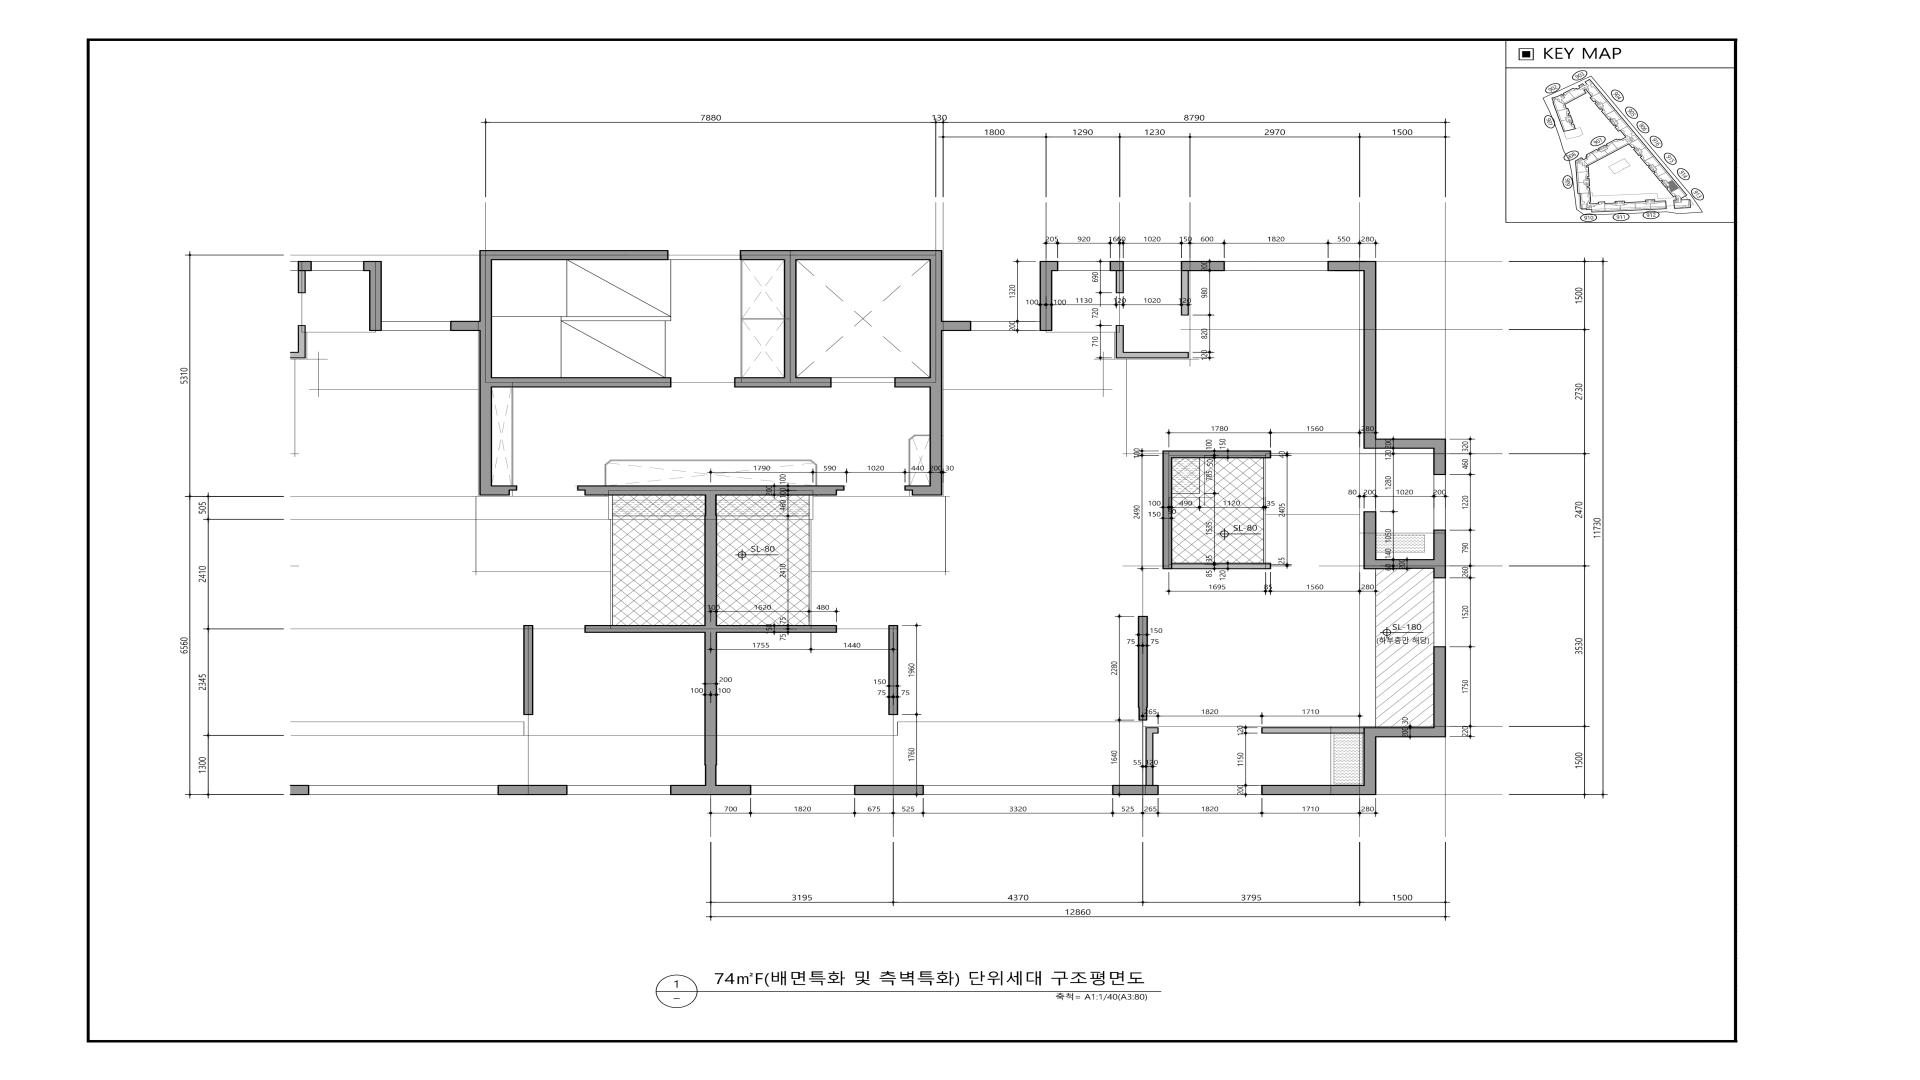wall: (704, 516, 717, 766), (584, 485, 837, 496), (1364, 272, 1377, 448), (479, 377, 671, 388), (740, 249, 930, 260), (492, 251, 669, 260), (783, 260, 796, 377), (479, 388, 492, 485), (930, 388, 943, 485), (1162, 450, 1172, 570), (1433, 646, 1447, 737), (1261, 785, 1364, 795), (735, 377, 832, 388), (1138, 616, 1149, 708), (584, 625, 704, 633), (717, 625, 837, 633), (887, 625, 898, 715), (479, 251, 492, 320), (369, 261, 382, 331), (930, 251, 943, 320), (1039, 261, 1052, 331), (1172, 450, 1271, 459), (670, 785, 752, 795), (524, 625, 533, 715), (1364, 512, 1377, 570), (1364, 737, 1377, 795), (497, 785, 568, 795), (1377, 438, 1447, 448), (1364, 727, 1433, 737), (855, 785, 924, 795), (1261, 727, 1364, 733), (1433, 529, 1447, 579), (1172, 563, 1271, 570), (479, 331, 492, 377), (930, 331, 943, 377), (1377, 559, 1433, 570), (1328, 261, 1377, 272), (894, 377, 943, 388), (1112, 785, 1159, 795), (1180, 261, 1225, 272), (1146, 727, 1154, 785), (450, 320, 492, 331), (930, 320, 972, 331), (1124, 352, 1189, 359), (1180, 272, 1189, 315), (1433, 448, 1447, 475), (479, 485, 510, 496), (911, 485, 943, 496), (1116, 326, 1124, 359), (704, 496, 717, 516), (298, 326, 306, 359), (704, 766, 716, 785), (290, 785, 309, 795), (1116, 272, 1124, 294), (298, 272, 306, 293), (1109, 261, 1124, 272), (298, 261, 311, 272), (1138, 708, 1147, 721), (363, 261, 369, 272), (1052, 261, 1059, 272), (290, 352, 298, 359), (578, 485, 584, 491), (837, 485, 844, 491), (510, 485, 517, 491), (905, 485, 911, 491), (1154, 727, 1159, 733)
